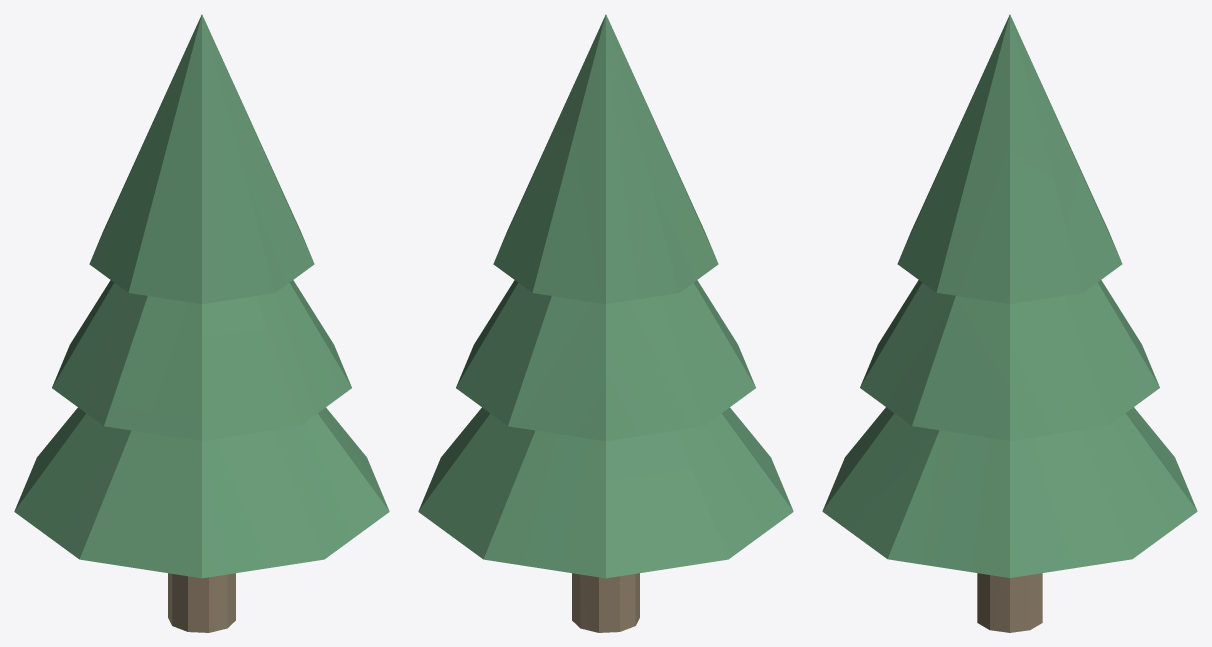
The model's file is pine-07.glb.
The picture shows the model from 3 angles, left to right: view 1: azimuth 30°, elevation 25°; view 2: azimuth 150°, elevation 25°; view 3: azimuth 270°, elevation 25°; orthographic projection.
Visible parts, largest first — view 1: world; view 2: world; view 3: world.
Part boxes in pixels (box(x1,y1,x2,y2)): world: box(14, 14, 389, 632); world: box(418, 14, 793, 632); world: box(822, 14, 1197, 632).
Size of the model in its own units: 0.9698 by 1.75 by 0.9848.
